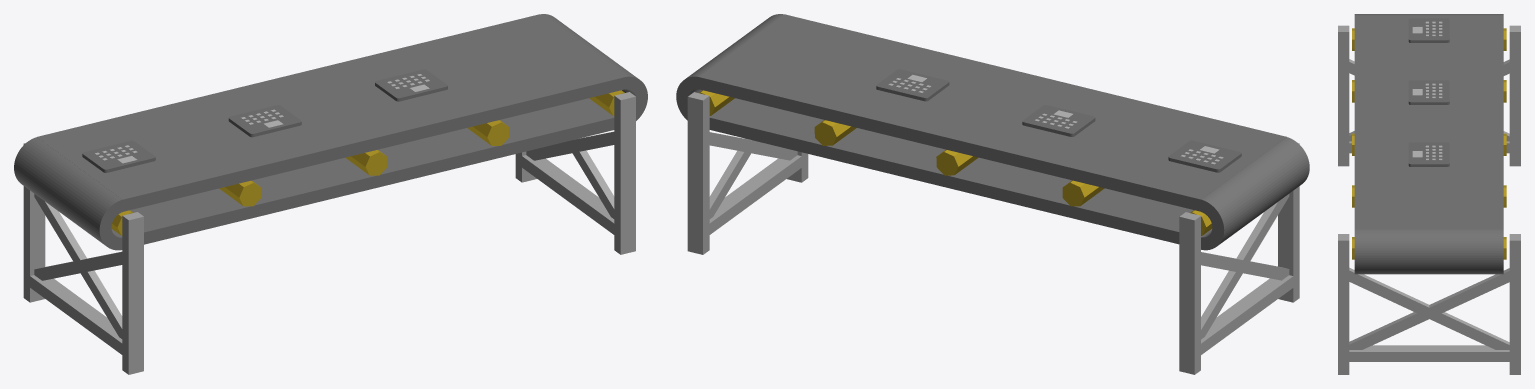
File: belt_3_to_4.glb
The picture shows the model from 3 angles, left to right: view 1: azimuth 30°, elevation 25°; view 2: azimuth 150°, elevation 25°; view 3: azimuth 270°, elevation 25°; orthographic projection. The views are drawn at different scales.
Parts seen in each view (by area): view 1: belt_sup, belt_inf.001, belt_end, foot2, foot2.001, foot3.001, foot3, foot4, foot1, keyboard1, keyboard3, keyboard2 (+7 smaller); view 2: belt_sup, belt_inf.001, belt_end, foot1.001, foot1, foot3, foot3.001, foot2, foot5, keyboard1, keyboard3, keyboard2 (+7 smaller); view 3: belt_sup, belt_start, foot3.001, foot4.001, foot5.001, foot1, foot2, foot2.001, foot1.001, keyboard1, keyboard2, keyboard3 (+1 smaller).
Boxes of the visible parts, <box> form: belt_sup: <box>37,14,624,211</box>; belt_inf.001: <box>111,98,614,244</box>; belt_end: <box>14,137,122,250</box>; foot2: <box>122,212,143,374</box>; foot2.001: <box>614,92,635,254</box>; foot3.001: <box>522,155,614,235</box>; foot3: <box>29,275,122,354</box>; foot4: <box>34,194,122,338</box>; foot1: <box>23,143,45,302</box>; keyboard1: <box>82,140,155,172</box>; keyboard3: <box>375,69,447,101</box>; keyboard2: <box>228,105,301,137</box>; belt_sup: <box>699,14,1286,211</box>; belt_inf.001: <box>709,98,1211,249</box>; belt_end: <box>1201,137,1309,250</box>; foot1.001: <box>687,92,709,254</box>; foot1: <box>1179,212,1200,374</box>; foot3: <box>1200,275,1293,355</box>; foot3.001: <box>709,155,801,234</box>; foot2: <box>1278,143,1299,302</box>; foot5: <box>1201,194,1289,339</box>; keyboard1: <box>1168,140,1241,172</box>; keyboard3: <box>876,69,949,101</box>; keyboard2: <box>1022,105,1095,136</box>; belt_sup: <box>1354,15,1503,228</box>; belt_start: <box>1354,229,1503,274</box>; foot3.001: <box>1348,345,1510,361</box>; foot4.001: <box>1349,268,1509,349</box>; foot5.001: <box>1349,267,1509,349</box>; foot1: <box>1509,25,1520,166</box>; foot2: <box>1338,25,1349,166</box>; foot2.001: <box>1338,234,1349,374</box>; foot1.001: <box>1509,234,1520,374</box>; keyboard1: <box>1408,18,1449,42</box>; keyboard2: <box>1408,80,1449,104</box>; keyboard3: <box>1408,142,1449,166</box>.
Size of the model in its own units: 4.5 by 1.34 by 1.49.
